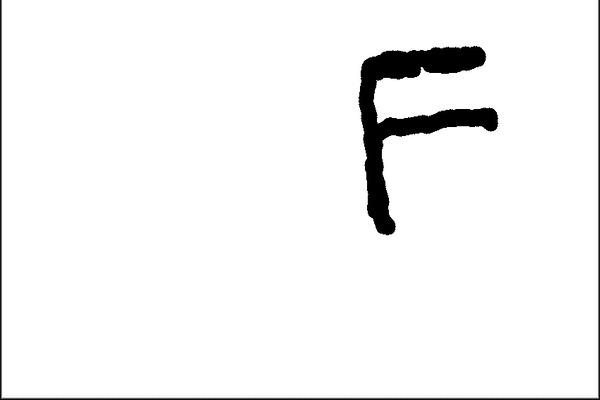F: (353, 39, 502, 237)
